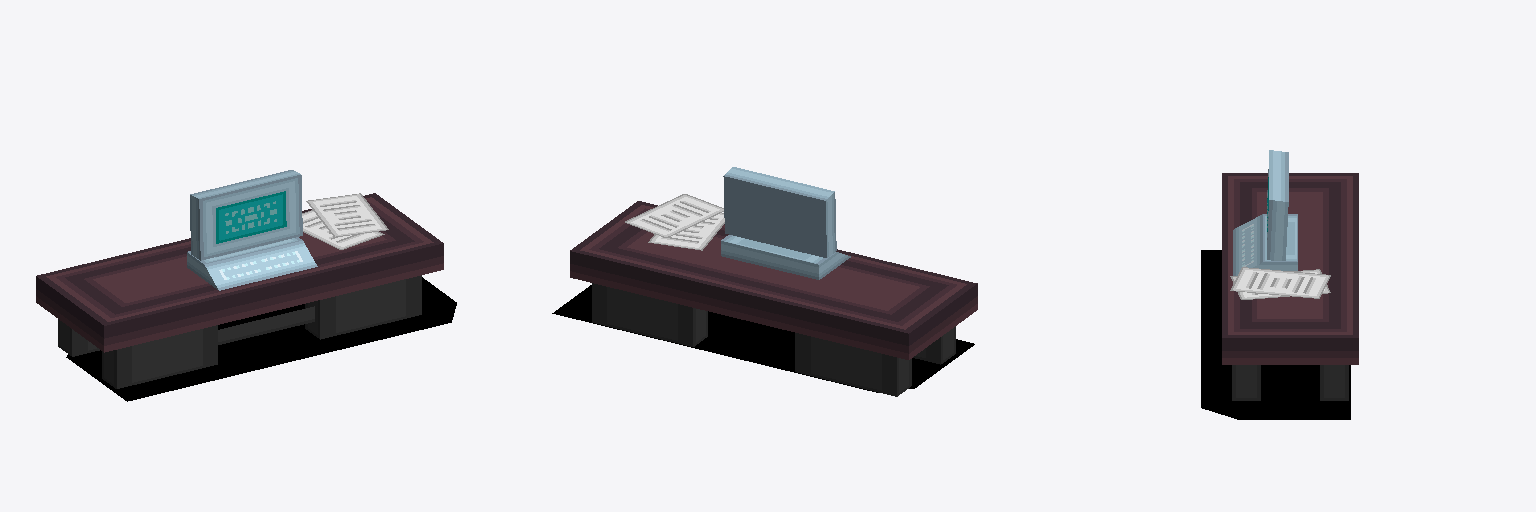
The picture shows the model from 3 angles: view 1: azimuth 30°, elevation 25°; view 2: azimuth 150°, elevation 25°; view 3: azimuth 270°, elevation 25°; orthographic projection.
Parts seen in each view (by area): view 1: polygon0, polygon1, polygon2; view 2: polygon0, polygon1, polygon2; view 3: polygon0, polygon2, polygon1.
Boxes of the visible parts, <box> form: polygon0: <box>36,193,443,388</box>; polygon1: <box>187,170,317,290</box>; polygon2: <box>66,277,456,401</box>; polygon0: <box>570,194,977,396</box>; polygon1: <box>721,167,850,279</box>; polygon2: <box>552,285,974,392</box>; polygon0: <box>1222,173,1358,400</box>; polygon2: <box>1201,250,1350,419</box>; polygon1: <box>1233,150,1297,275</box>.
Size of the model in its own units: 10.64 by 4.27 by 4.04.
3 materials, 2 textured.